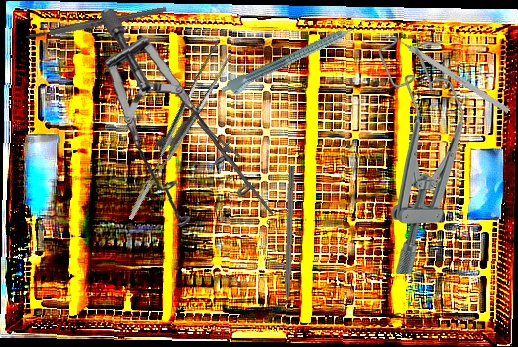Handpiece: (219, 20, 368, 101)
Hook Surgical: (385, 30, 511, 114), (281, 165, 296, 325)
Needle Holder: (186, 113, 291, 216)
Scalpel Handle: (25, 5, 167, 42)
Speculum: (84, 8, 270, 232), (378, 37, 464, 274)
Tissue Forceps: (100, 41, 249, 221)
